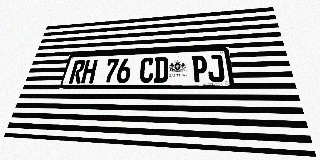6: (116, 58, 132, 83)
7: (103, 59, 119, 83)
C: (139, 57, 154, 83)
D: (153, 57, 168, 83)
H: (81, 59, 98, 83)
J: (207, 55, 225, 82)
P: (192, 55, 208, 82)
R: (68, 60, 86, 84)
